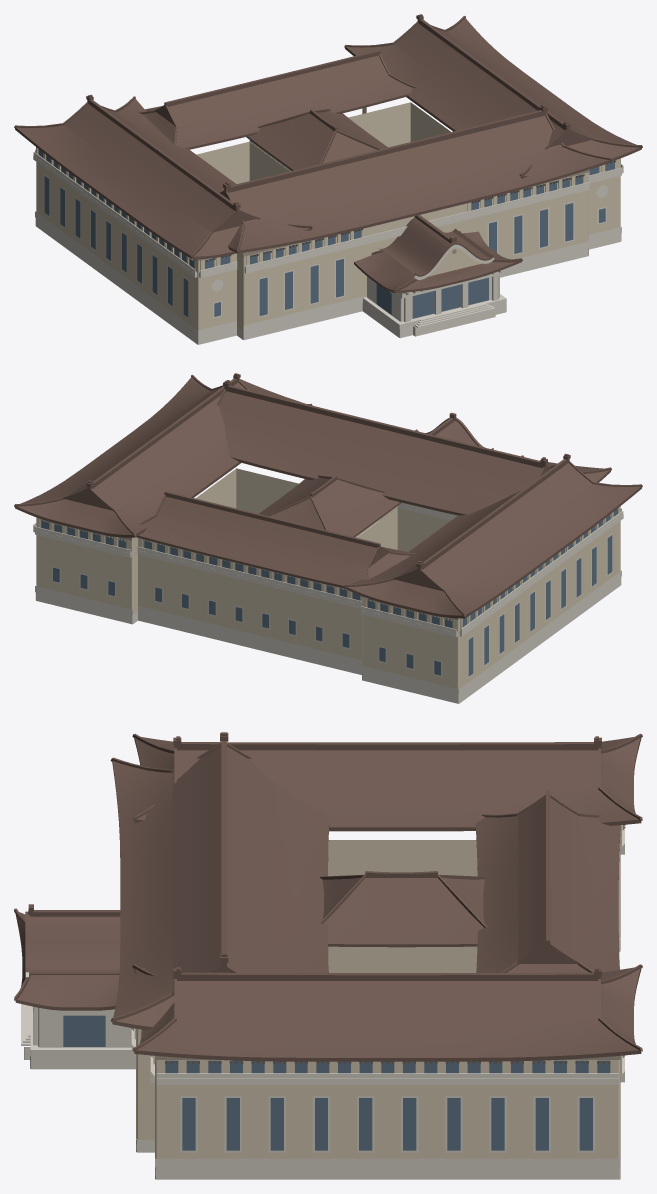
The model's file is tokyo-national-museum.detail.glb.
3 views of the same model, one above another, from view 1: azimuth 30°, elevation 25°; view 2: azimuth 150°, elevation 25°; view 3: azimuth 270°, elevation 25° (orthographic). The views are drawn at different scales.
Parts seen in each view (by area): view 1: Tokyo National Museum, Honkan; view 2: Tokyo National Museum, Honkan; view 3: Tokyo National Museum, Honkan.
Part boxes in pixels (x1,y1,x2,y2): Tokyo National Museum, Honkan: (14,14,642,344); Tokyo National Museum, Honkan: (14,373,642,703); Tokyo National Museum, Honkan: (14,732,642,1179).
Bounding box in the file's own units: 123 × 34.3 × 104.
